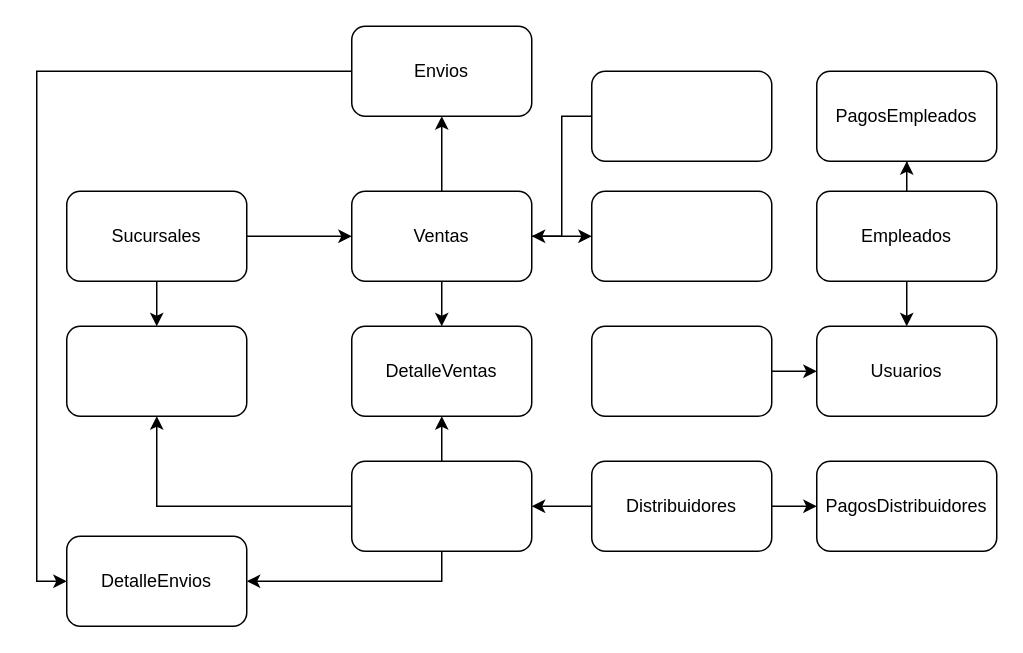
Some shapes in this 1023 by 653 pixel diagram are drawn without their labels. The shapes that lost their labels are listed below. From the top down, each one's centre as x and y in pixels, then its label:
(x=681, y=115): Clientes
(x=681, y=235): PagosClientes
(x=156, y=370): Inventarios
(x=681, y=370): Roles
(x=441, y=505): Materiales
